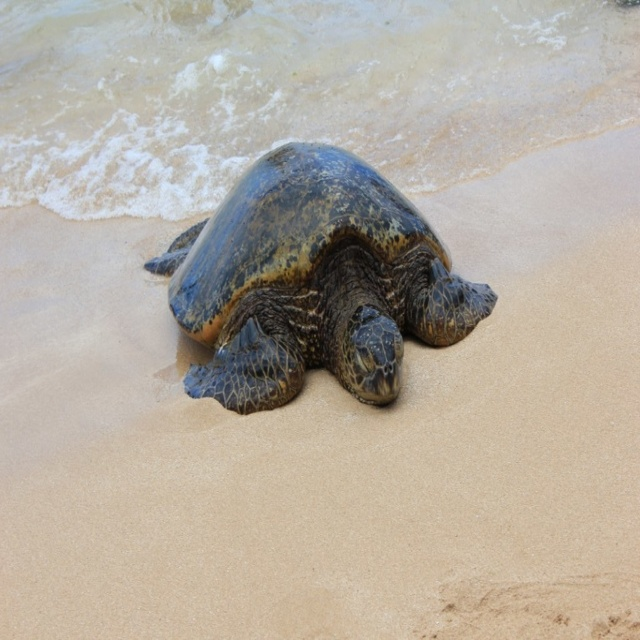Sea turtle: (143, 142, 498, 416)
